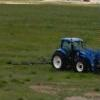Tractor: (40, 25, 100, 83)
